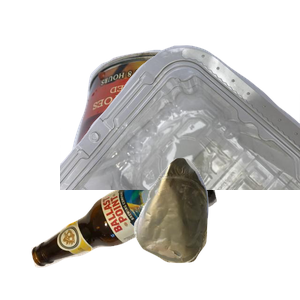glass: (29, 150, 238, 300)
metal: (62, 47, 300, 227)
plastic: (60, 43, 300, 223)
trash: (131, 155, 300, 300)
